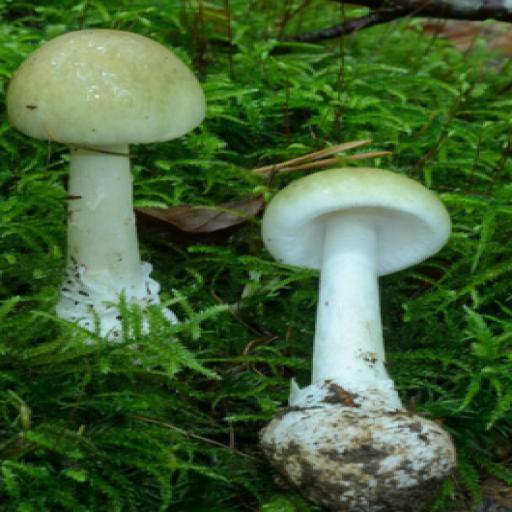mushroom: (256, 165, 455, 508), (0, 20, 208, 347)
